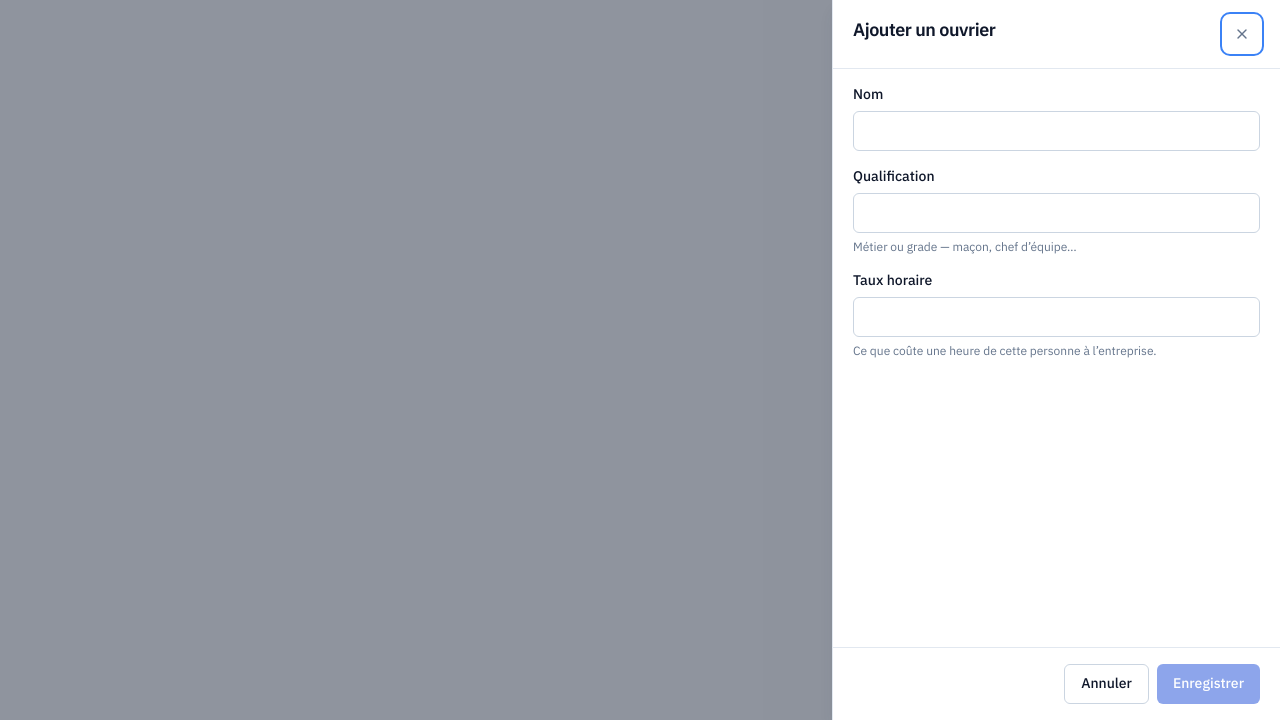
Test: WorkerDrawer, creating › refuses a rate of zero — nobody works for free
Type "Amina Cherif" into the field labelled "Nom" at (1056, 131), box [853,111,1260,151]
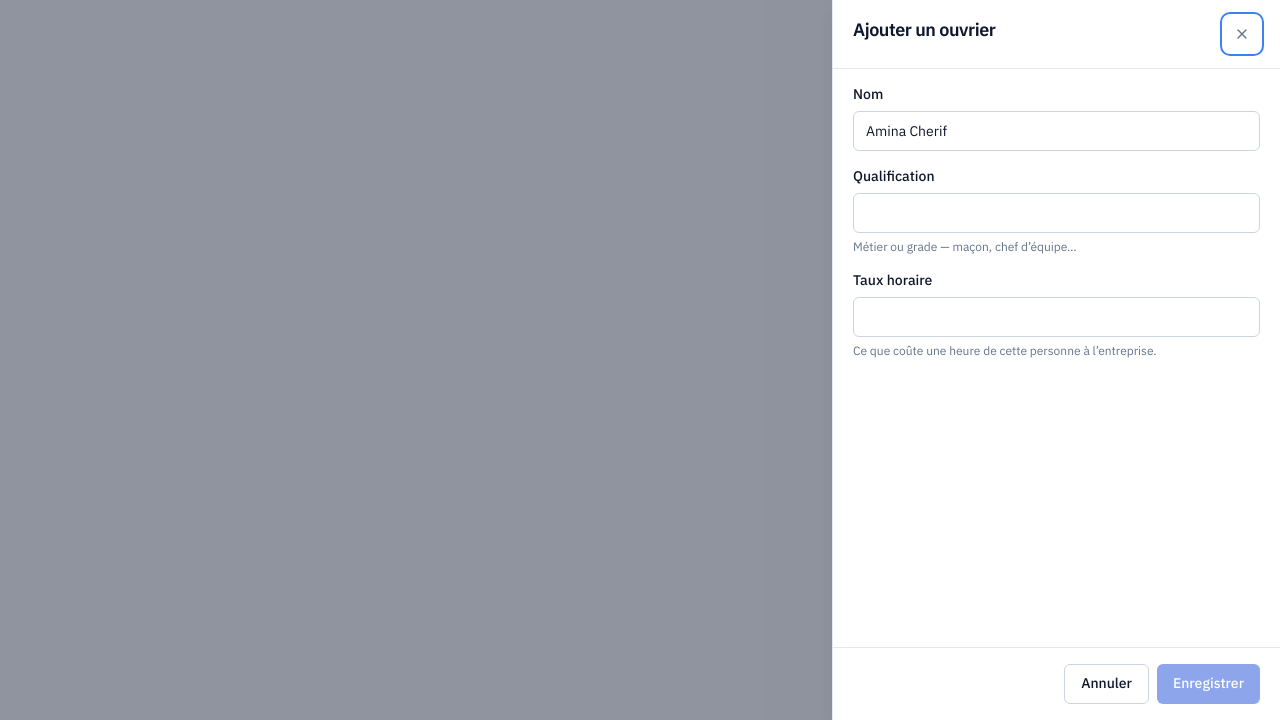
Type "16" into the number field labelled "Taux horaire" at (1056, 317), box [853,297,1260,337]
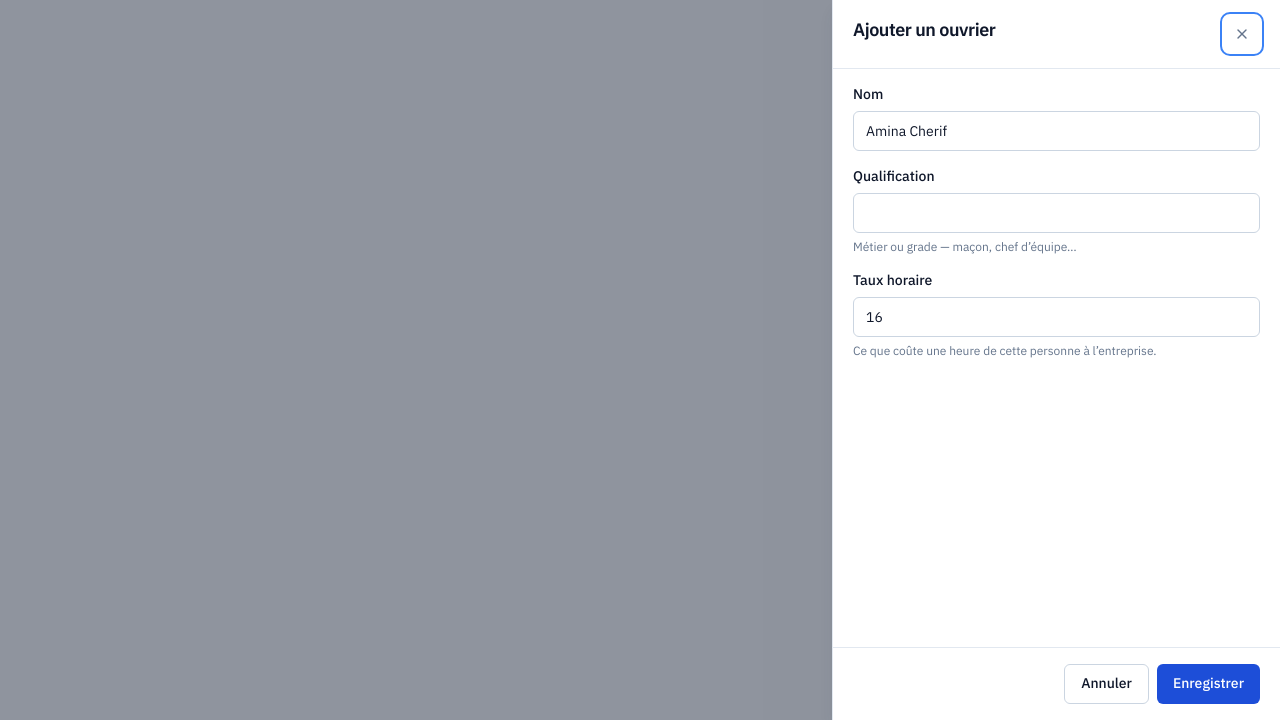
Replace the text in the number field labelled "Taux horaire" with "0" at (1056, 317), box [853,297,1260,337]
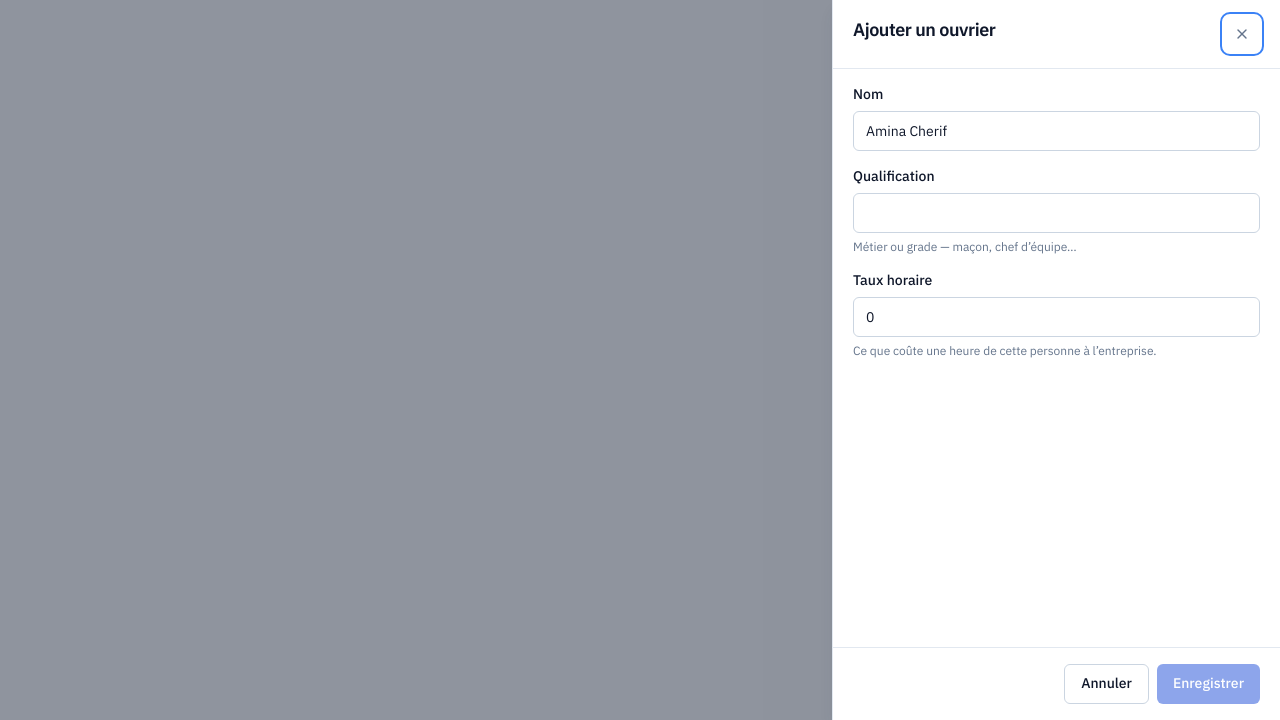
expect the button "Enregistrer" is disabled: met, box [1157,664,1260,704]
